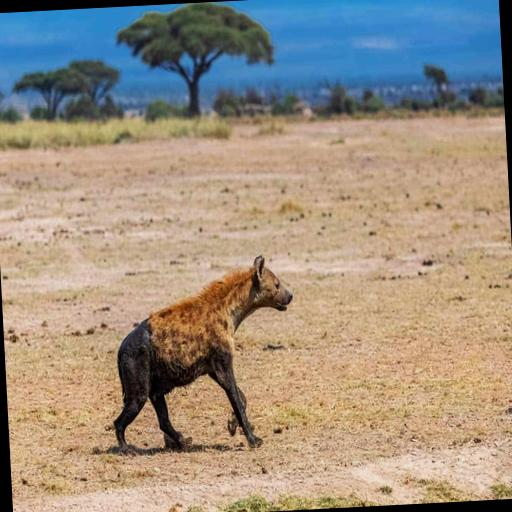hyenas: (96, 243, 330, 496)
